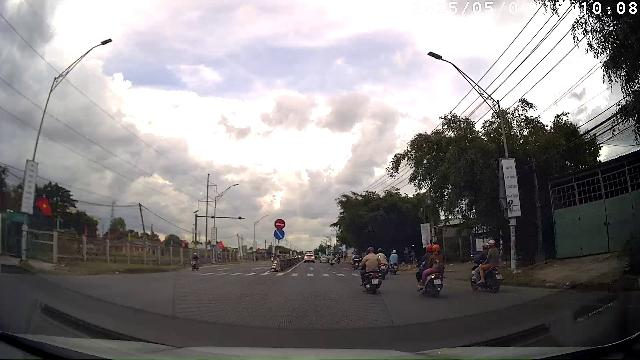102-cam-di-nguoc-chieu: (274, 219, 286, 229)
302a-huong-phai-di-vong-chuong-ngai-vat-1: (274, 229, 284, 239)
